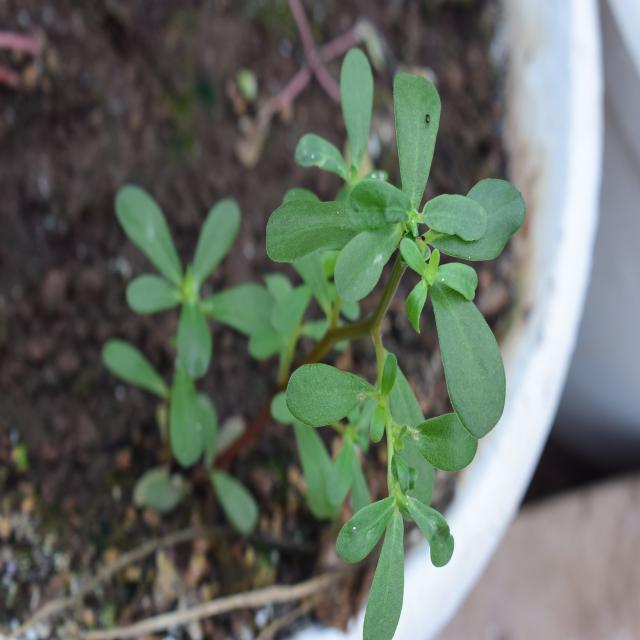purslane: (244, 47, 508, 628), (103, 149, 288, 540)
